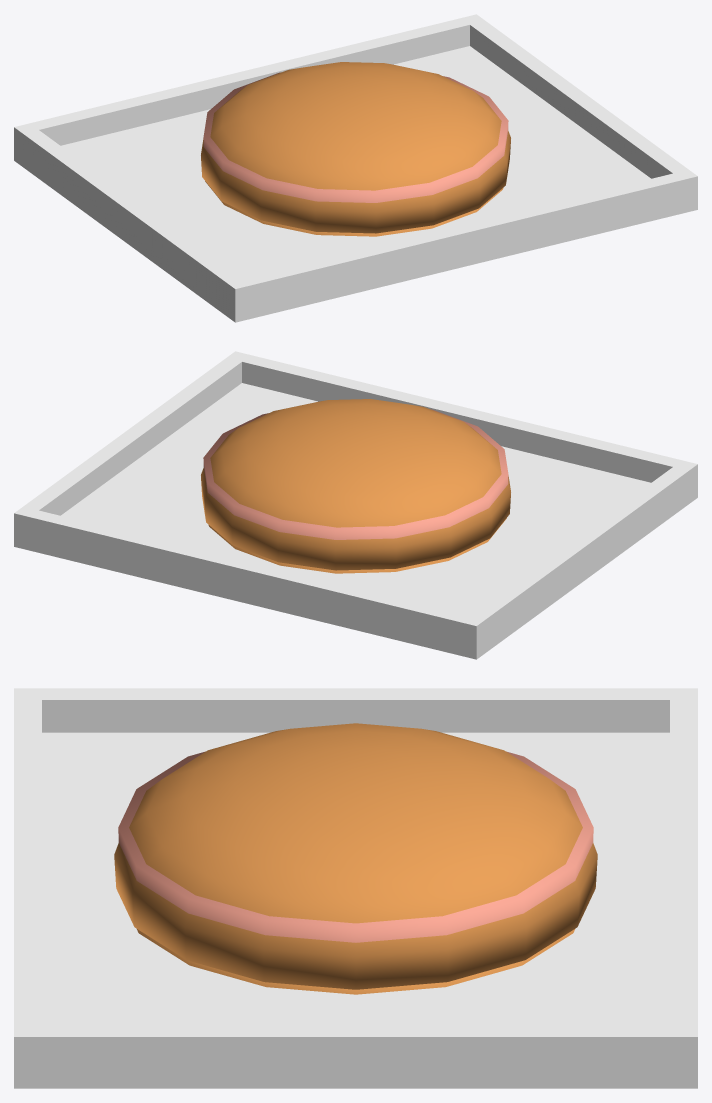
The model's file is burger_test.glb.
3 views of the same model, one above another, from view 1: azimuth 30°, elevation 25°; view 2: azimuth 150°, elevation 25°; view 3: azimuth 270°, elevation 25° (orthographic). The views are drawn at different scales.
Parts seen in each view (by area): view 1: tray, top_bun, patty, bottom_bun; view 2: tray, top_bun, patty, bottom_bun; view 3: tray, top_bun, patty, bottom_bun.
Part boxes in pixels (bbox=[...]): tray: bbox=[14, 14, 697, 322]; top_bun: bbox=[201, 62, 510, 233]; patty: bbox=[203, 72, 508, 202]; bottom_bun: bbox=[205, 181, 503, 236]; tray: bbox=[14, 351, 697, 659]; top_bun: bbox=[201, 399, 510, 570]; patty: bbox=[203, 409, 508, 539]; bottom_bun: bbox=[208, 518, 506, 573]; tray: bbox=[14, 688, 697, 1088]; top_bun: bbox=[114, 723, 597, 989]; patty: bbox=[118, 751, 593, 942]; bottom_bun: bbox=[137, 929, 574, 994].
Size of the model in its own units: 1.09 by 0.3102 by 0.9015.
